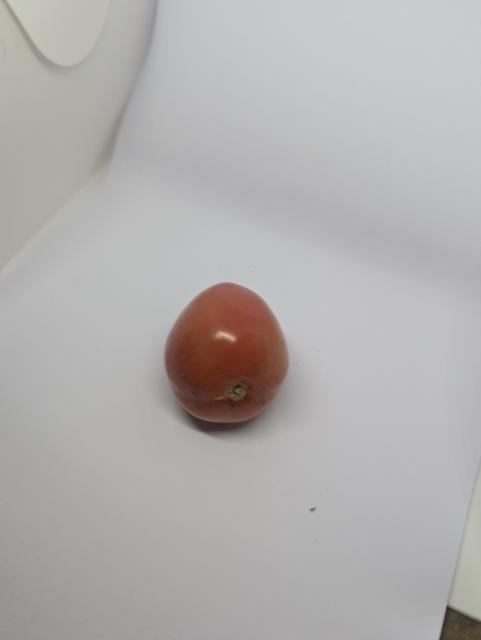red: (161, 280, 296, 430)
